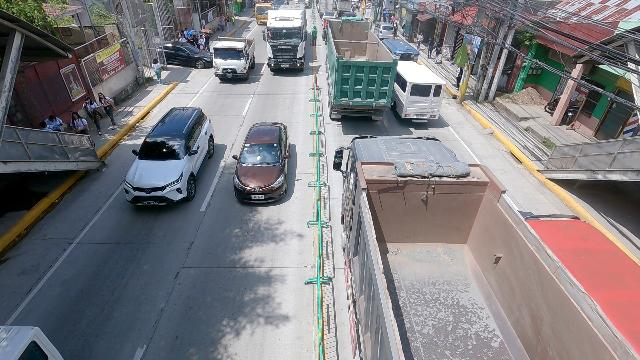car: (120, 106, 214, 214), (228, 121, 291, 207), (156, 42, 213, 69), (374, 22, 395, 39), (321, 10, 339, 23), (272, 0, 287, 10)
jeepney: (382, 38, 421, 65)
truck: (331, 134, 640, 360), (321, 14, 399, 126), (263, 3, 309, 74), (213, 36, 255, 82), (255, 3, 275, 24)
van: (393, 60, 447, 126)
